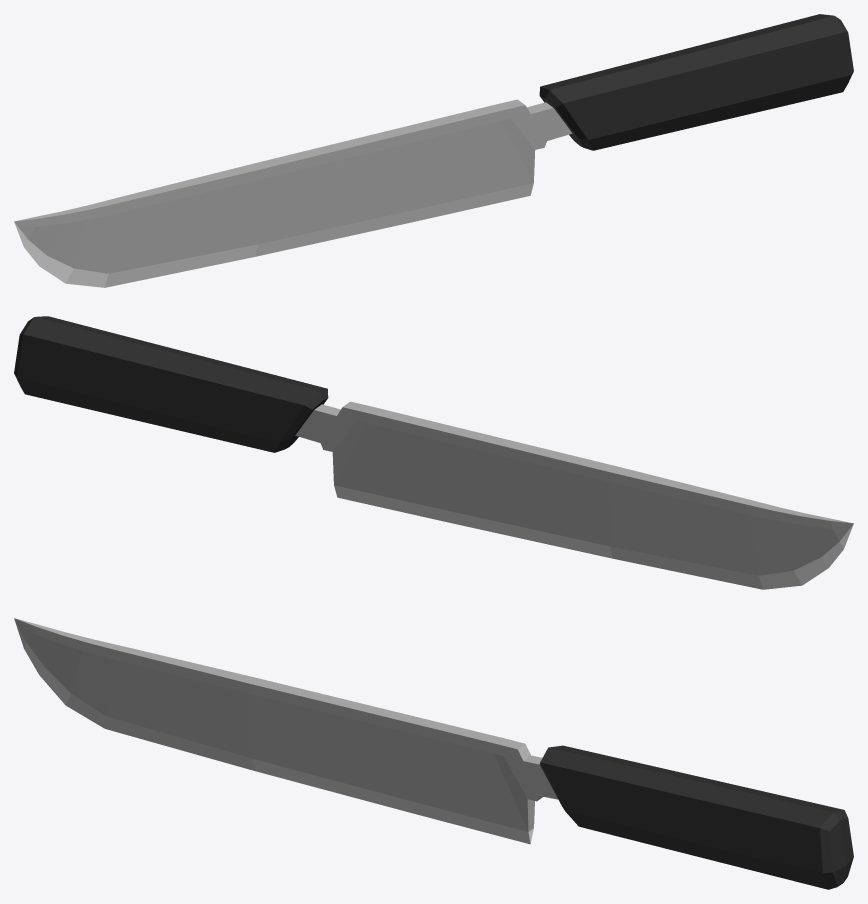
The model's file is knife.fbx.
The picture shows the model from 3 angles, top to bottom: view 1: azimuth 30°, elevation 25°; view 2: azimuth 150°, elevation 25°; view 3: azimuth 330°, elevation 25°; orthographic projection.
Visible parts, largest first — view 1: knife; view 2: knife; view 3: knife.
Part boxes in pixels (bbox=[...]): knife: bbox=[14, 14, 853, 287]; knife: bbox=[14, 316, 853, 589]; knife: bbox=[14, 618, 853, 889].
Bounding box in the file's own units: 16.68 × 2.03 × 0.9643.
1 material, 1 textured.
